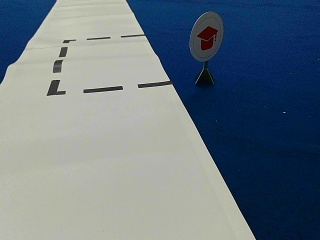school: (189, 12, 223, 60)
